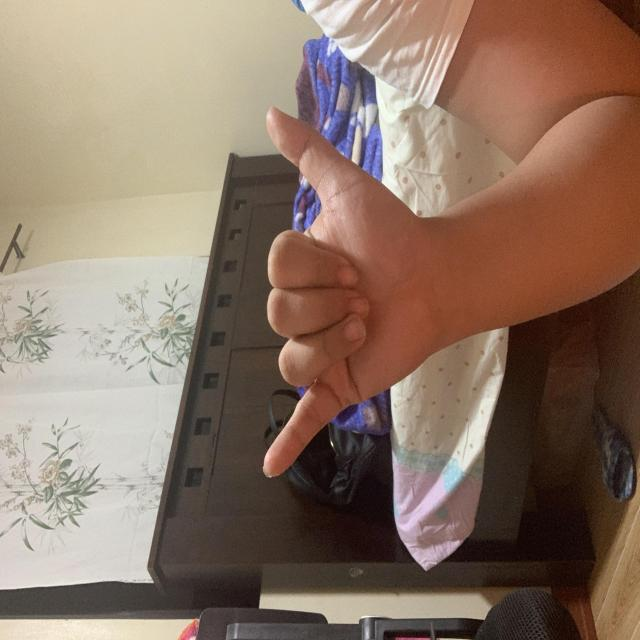Y: (104, 262, 482, 438)
